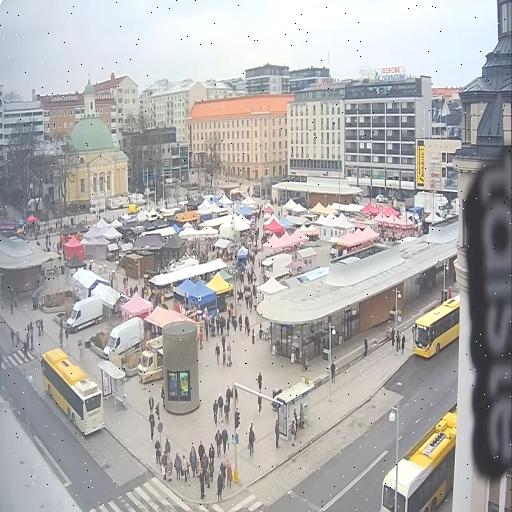Bus: (381, 407, 457, 511), (41, 348, 104, 435), (413, 296, 459, 357)
Delivery: (104, 317, 144, 358), (67, 296, 103, 333), (138, 336, 163, 383)
